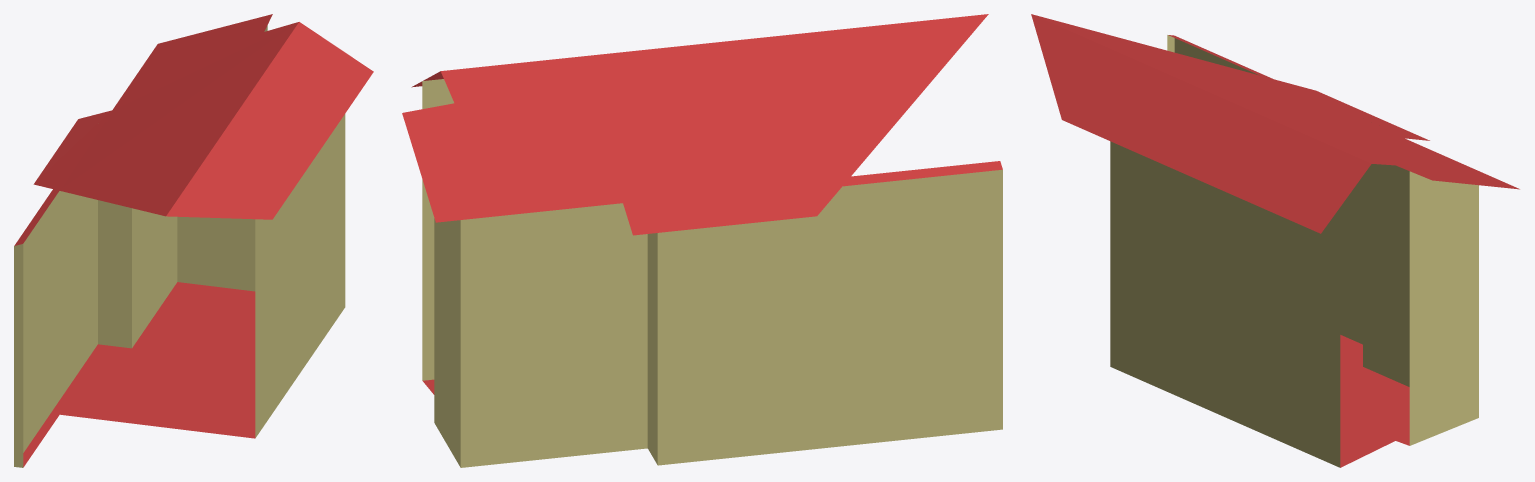
3 views of the same model, side by side, from view 1: azimuth 30°, elevation 25°; view 2: azimuth 150°, elevation 25°; view 3: azimuth 270°, elevation 25° (orthographic). The views are drawn at different scales.
Size of the model in its own units: 12.95 by 12.43 by 8.08.
